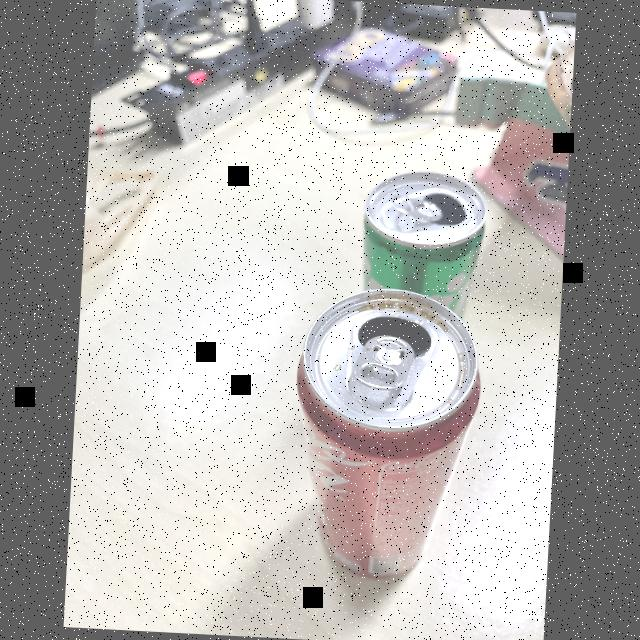can: (286, 274, 488, 594), (347, 161, 493, 323)
